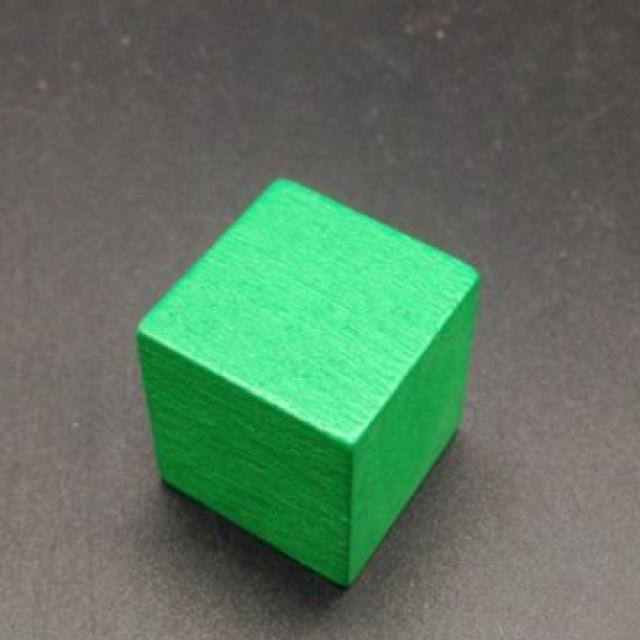green cube: (136, 178, 483, 591)
